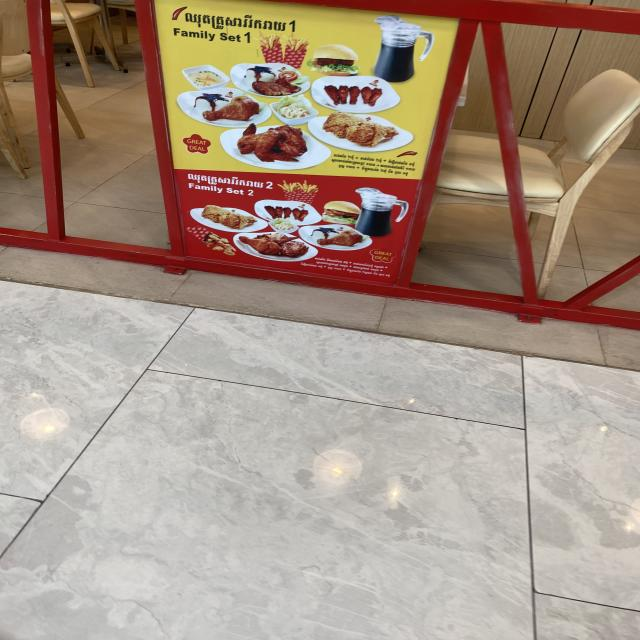503: (288, 19, 300, 33), (242, 30, 254, 44)
631: (264, 180, 274, 190), (246, 188, 255, 198)
Yolov11_80vkh: (185, 8, 287, 36), (186, 170, 265, 191)
